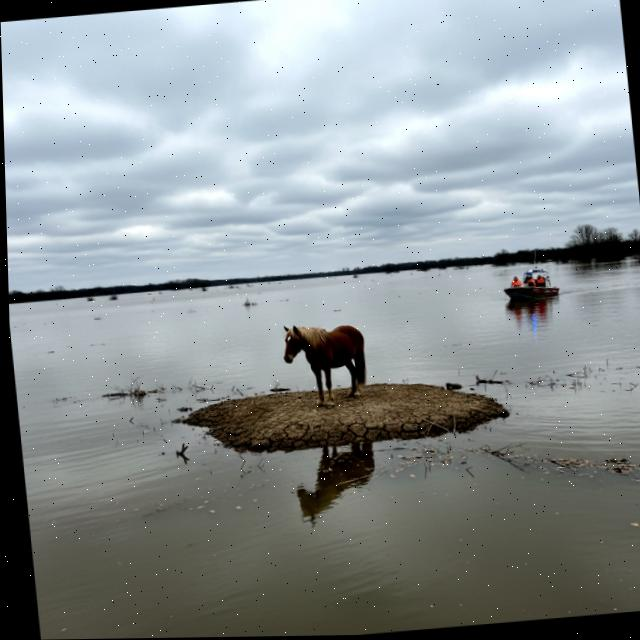horse: (271, 308, 387, 421)
rescuer: (508, 273, 523, 290), (534, 273, 545, 289), (527, 273, 536, 289)
